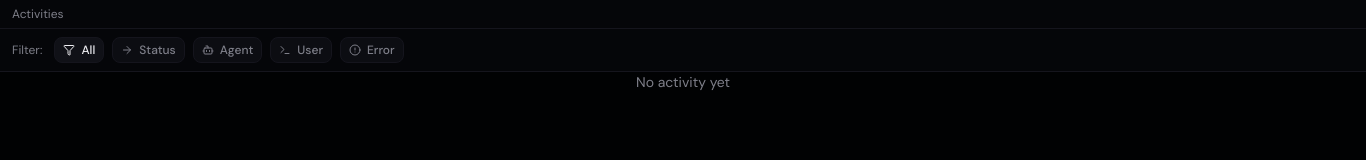
Test case: ActivitiesTab › Filter Integration (TES-2.12) › shows "No matching events" when filter returns empty result
Click the button "Status": click(148, 50) left=112, top=37, right=185, bottom=63
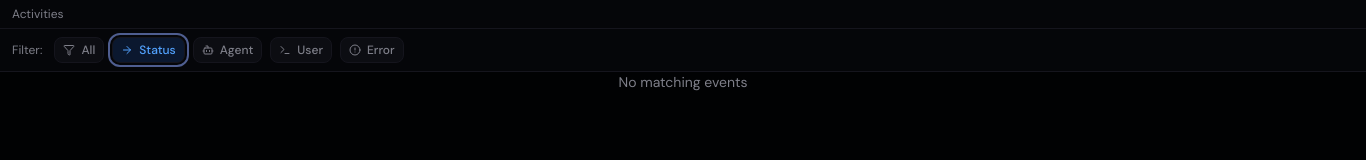
Expected: the text "No matching events" is shown, left=618, top=72, right=748, bottom=92
